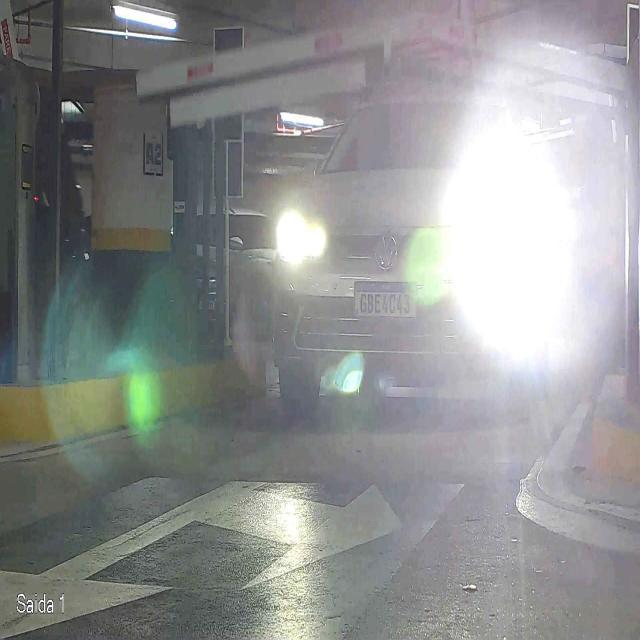mercosul_plate: (351, 278, 419, 320)
